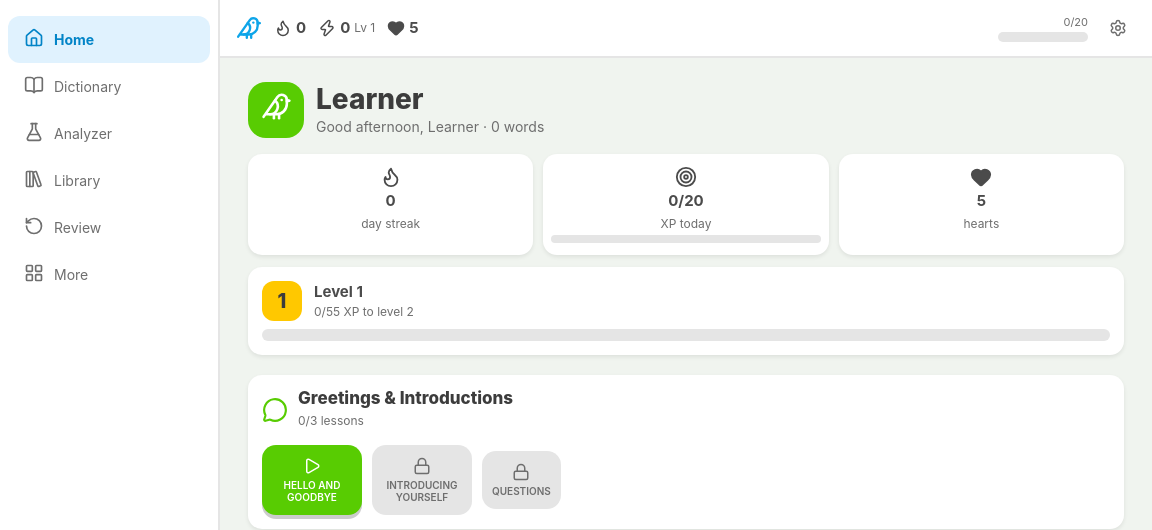
Scenario: App › opens the roadmap with its stages
The width and height of the screenshot is (1152, 530).
Step 1. Click the button with aria-label "all sections" → click(109, 274), box [8,251,210,298]
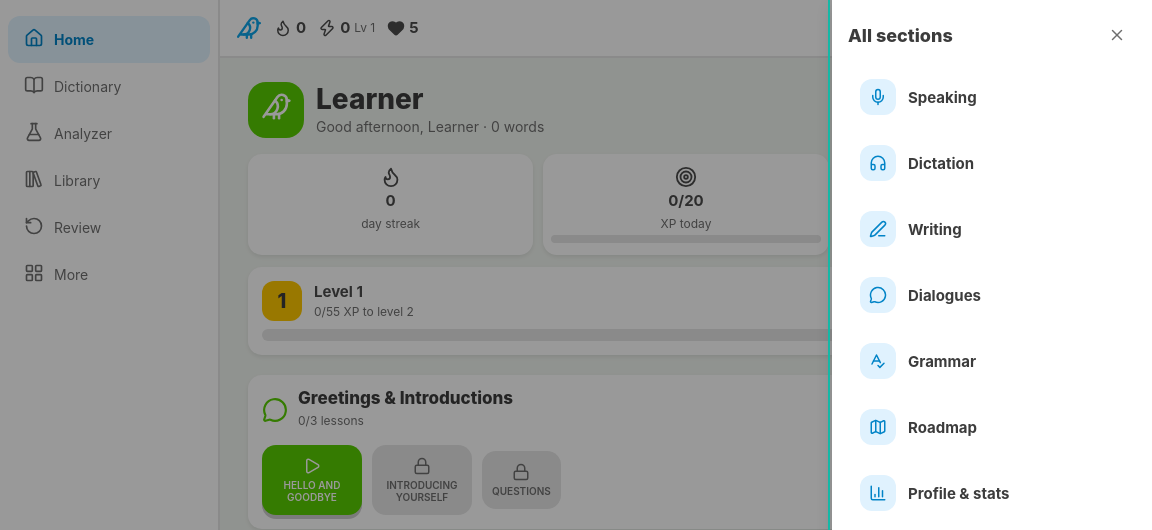
Step 2. Click the button "Roadmap" → click(878, 427), box [848,397,1136,457]
(page scrolled)
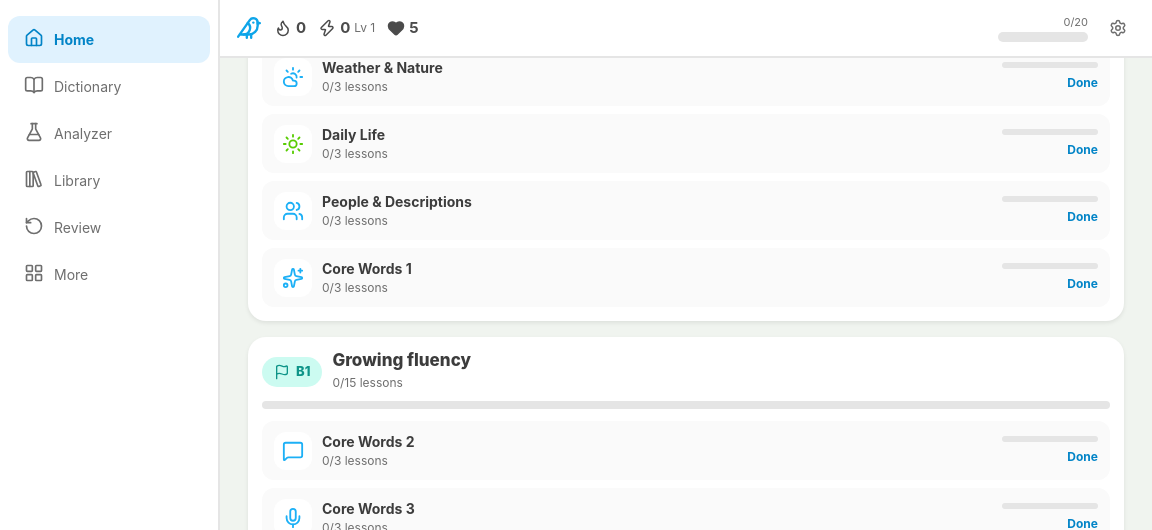
Check: the heading "Growing fluency" is shown, box [332,351,471,371]
